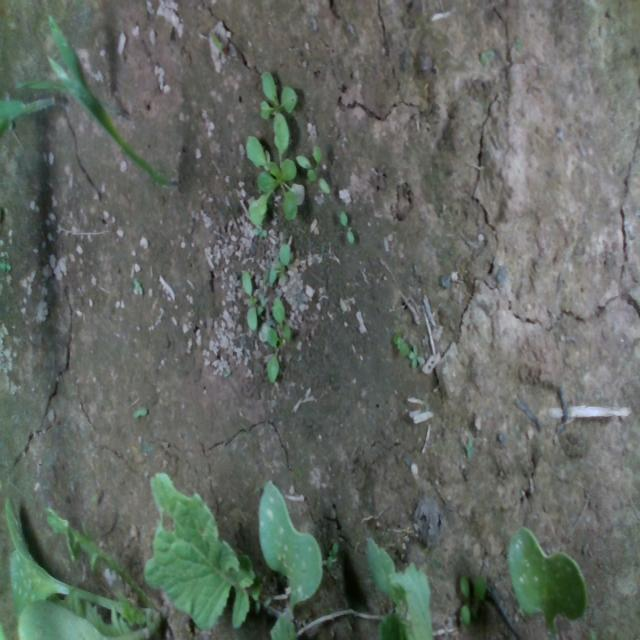weed: (339, 208, 354, 245), (131, 405, 147, 418)
